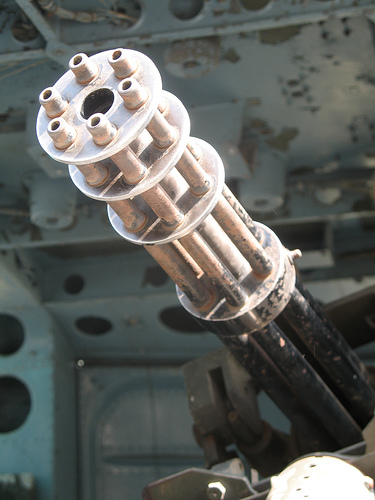rifle: (27, 51, 355, 441)
